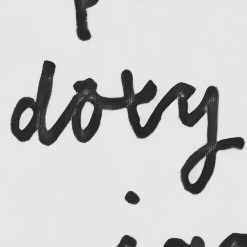d: (7, 58, 59, 148)
o: (68, 79, 106, 145)
x: (113, 68, 159, 140)
y: (169, 80, 223, 197)
